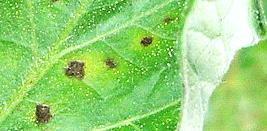Tomato Septoria leaf spot: (0, 0, 258, 131)
